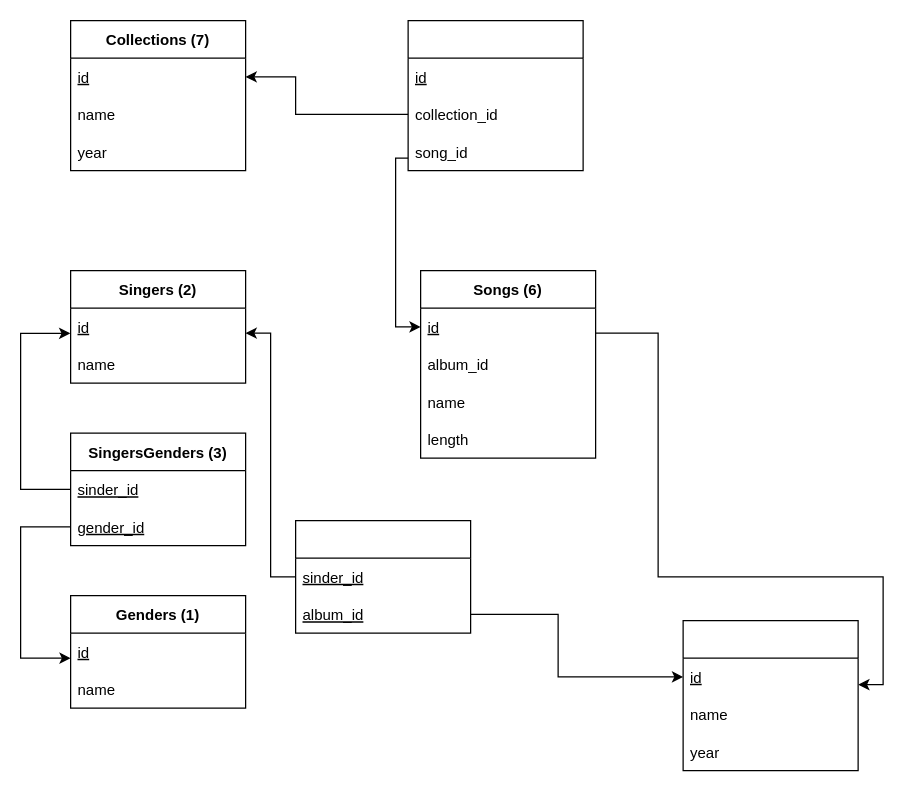
The diagram is 904 pixels wide and 791 high, and some of its shapes have lost their labels. Here are the shapes that lost their labels. From the top down, the box of each, then its label:
(407, 19, 583, 171): CollectionsSongs (8)
(294, 519, 471, 633): SingersAlbums (5)
(682, 619, 858, 771): Albums (4)
